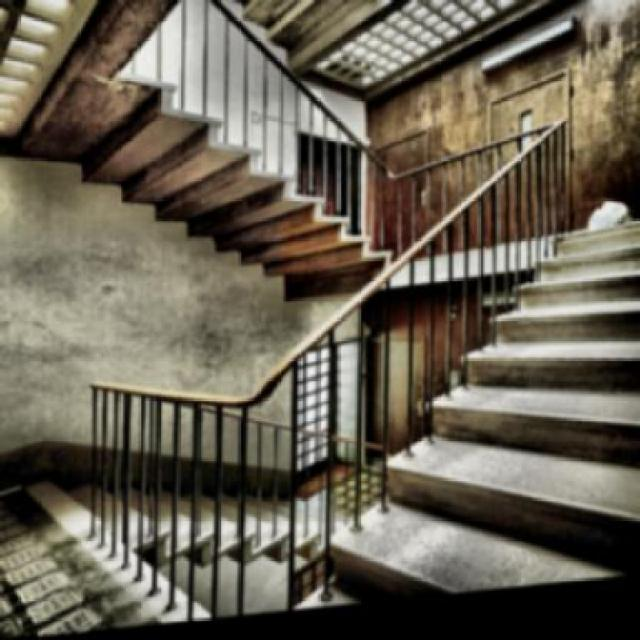stair: (284, 147, 638, 616)
